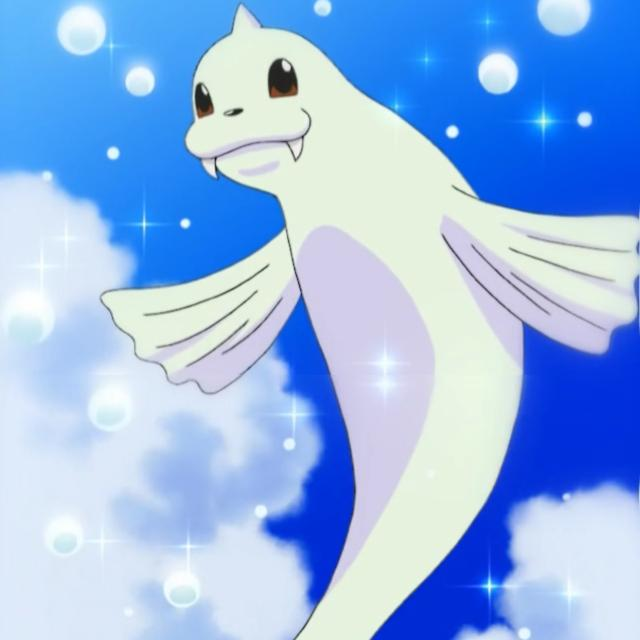Dewgong: (124, 16, 624, 640)
